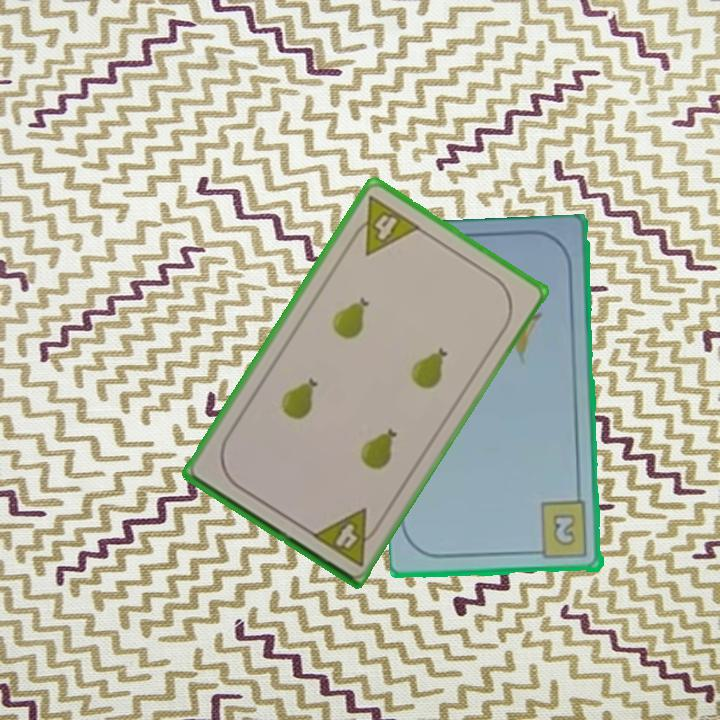2b: (529, 499, 591, 562)
4p: (344, 191, 424, 258), (308, 504, 385, 569)
